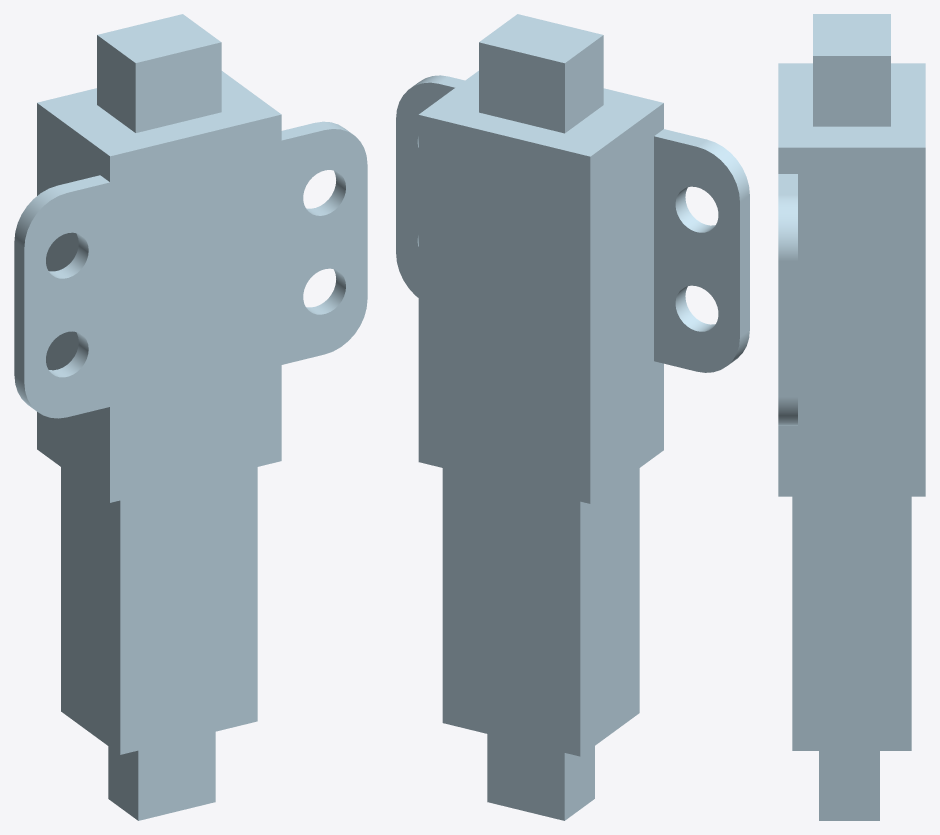
Rendered from PLACEHOLDER_Linear_Actuator_21mm.gltf.
The picture shows the model from 3 angles, left to right: view 1: azimuth 30°, elevation 25°; view 2: azimuth 150°, elevation 25°; view 3: azimuth 270°, elevation 25°; orthographic projection.
Parts seen in each view (by area): view 1: mesh32537, mesh32542, mesh32543, mesh32531, mesh32552, mesh32555, mesh32547, mesh32557, mesh32554, mesh32548, mesh32534, mesh32533 (+2 smaller); view 2: mesh32530, mesh32544, mesh32531, mesh32538, mesh32543, mesh32552, mesh32553, mesh32549, mesh32522, mesh32557, mesh32554, mesh32548 (+4 smaller); view 3: mesh32529, mesh32545, mesh32552, mesh32556, mesh32550, mesh32557, mesh32525, mesh32526, mesh32524, mesh32527.
Part boxes in pixels (box(x1,y1,x2,y2)): mesh32537: box(24, 114, 367, 502); mesh32542: box(120, 467, 257, 754); mesh32543: box(61, 467, 120, 754); mesh32531: box(37, 103, 109, 502); mesh32552: box(37, 71, 281, 156); mesh32555: box(135, 42, 221, 132); mesh32547: box(138, 731, 215, 820); mesh32557: box(97, 14, 220, 62); mesh32554: box(97, 35, 135, 132); mesh32548: box(108, 746, 138, 820); mesh32534: box(14, 241, 24, 382); mesh32533: box(14, 185, 66, 247); mesh32530: box(418, 115, 590, 503); mesh32544: box(442, 468, 580, 756); mesh32531: box(590, 103, 663, 503); mesh32538: box(654, 136, 739, 372); mesh32543: box(580, 468, 639, 756); mesh32552: box(419, 71, 663, 156); mesh32553: box(479, 42, 564, 133); mesh32549: box(487, 734, 564, 820); mesh32522: box(396, 82, 454, 297); mesh32557: box(479, 14, 602, 63); mesh32554: box(565, 35, 603, 132); mesh32548: box(564, 746, 594, 820); mesh32529: box(778, 147, 925, 496); mesh32545: box(792, 496, 911, 750); mesh32552: box(778, 63, 925, 147); mesh32556: box(813, 56, 890, 126); mesh32550: box(819, 751, 879, 820); mesh32557: box(813, 14, 890, 55); mesh32525: box(778, 261, 797, 396); mesh32526: box(778, 195, 797, 261); mesh32524: box(778, 396, 797, 425); mesh32527: box(778, 174, 797, 194).
Bounding box in the file's own units: 0.04 × 0.0848 × 0.0148.
